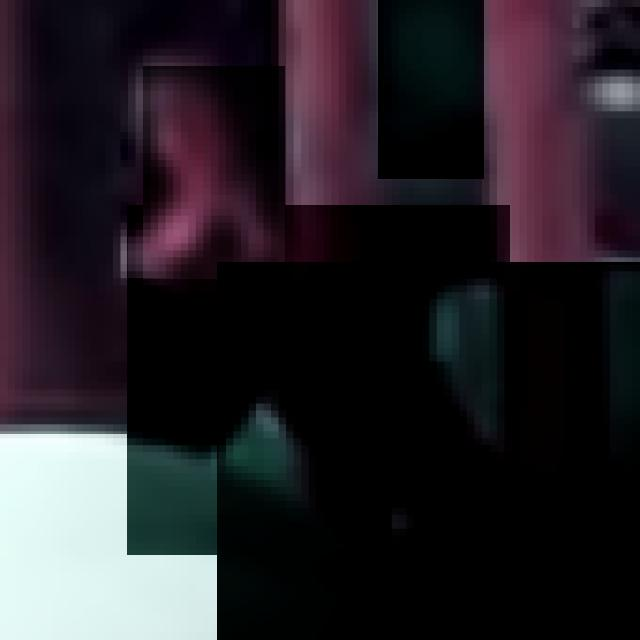Algae: (217, 262, 640, 640), (0, 434, 437, 640), (378, 0, 484, 179)
Reef: (127, 205, 510, 555), (143, 66, 285, 279)
